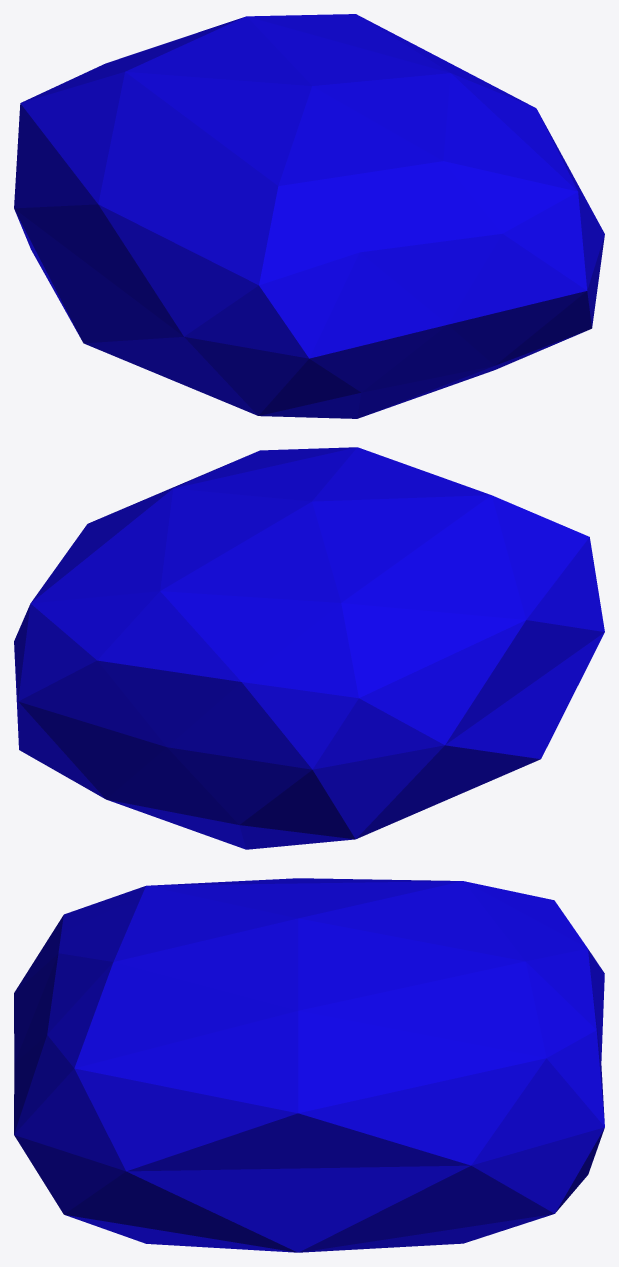
The model's file is CargoShip.fbx.
The picture shows the model from 3 angles, top to bottom: view 1: azimuth 30°, elevation 25°; view 2: azimuth 150°, elevation 25°; view 3: azimuth 270°, elevation 25°; orthographic projection. The views are drawn at different scales.
Visible parts, largest first — view 1: Shield; view 2: Shield; view 3: Shield.
Boxes of the visible parts, x1=… form: Shield: x1=14, y1=14, x2=604, y2=418; Shield: x1=14, y1=447, x2=604, y2=849; Shield: x1=14, y1=878, x2=604, y2=1252.
Size of the model in its own units: 20.34 by 21.97 by 11.94.
